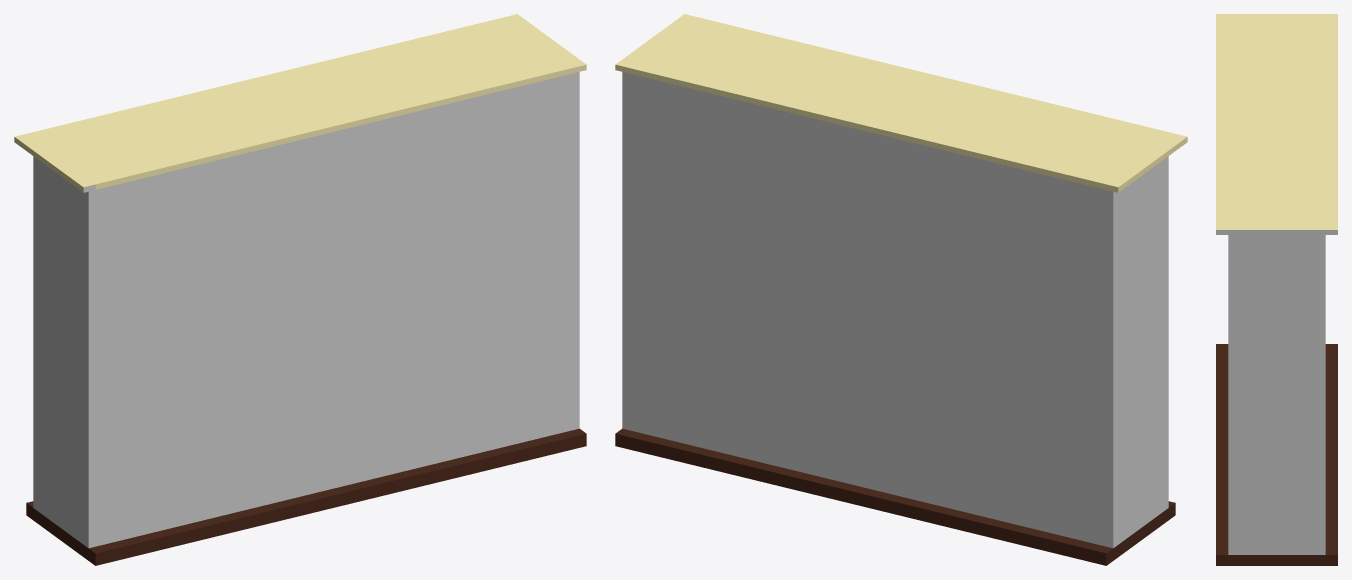
The model's file is Bathroom - half wall.fbx.
3 renders of one model, left to right at view 1: azimuth 30°, elevation 25°; view 2: azimuth 150°, elevation 25°; view 3: azimuth 270°, elevation 25°, orthographic. The views are drawn at different scales.
Visible parts, largest first — view 1: Cube.253; view 2: Cube.253; view 3: Cube.253.
Part boxes in pixels (x1=…): Cube.253: x1=14, y1=14, x2=586, y2=565; Cube.253: x1=615, y1=14, x2=1187, y2=565; Cube.253: x1=1216, y1=14, x2=1337, y2=565.
Size of the model in its own units: 420 by 304 by 100.
